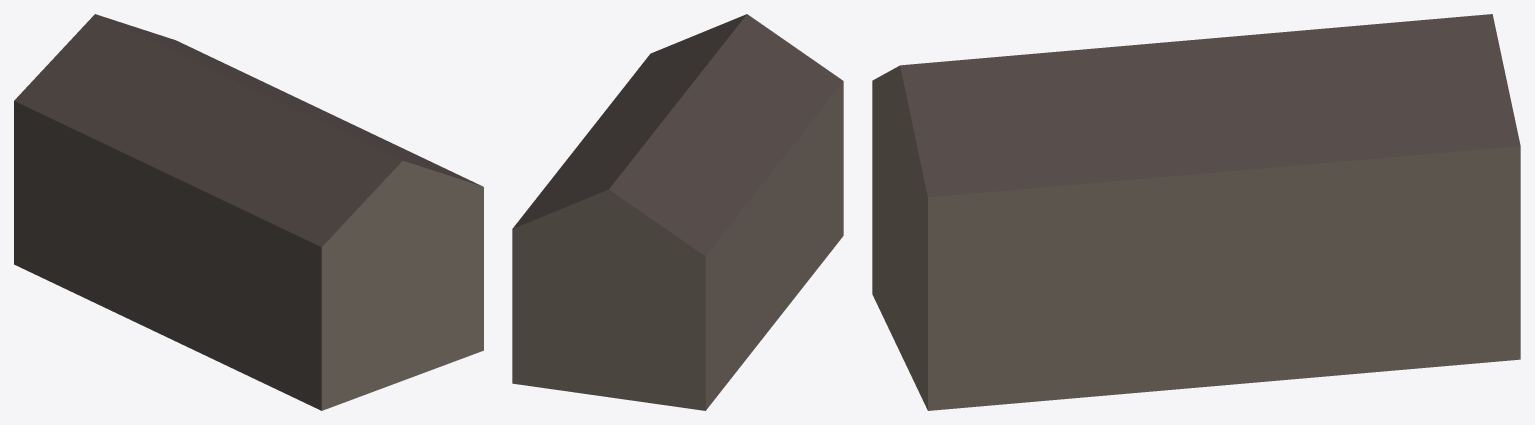
3 views of the same model, side by side, from view 1: azimuth 30°, elevation 25°; view 2: azimuth 150°, elevation 25°; view 3: azimuth 270°, elevation 25° (orthographic). The views are drawn at different scales.
Visible parts, largest first — view 1: HP-w378107191; view 2: HP-w378107191; view 3: HP-w378107191.
Part boxes in pixels (bbox=[...]): HP-w378107191: bbox=[14, 14, 483, 410]; HP-w378107191: bbox=[512, 14, 843, 410]; HP-w378107191: bbox=[872, 14, 1520, 410].
Size of the model in its own units: 10.14 by 8.07 by 16.52.
